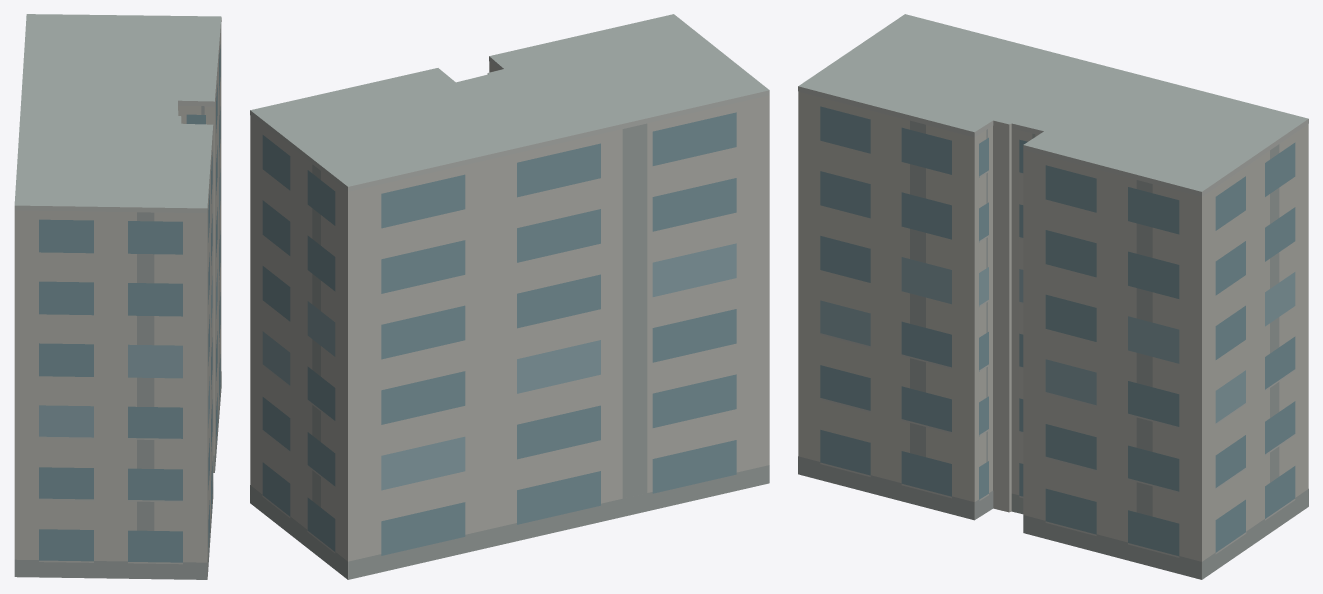
Rendered from survey-upis-32515954.glb.
3 renders of one model, left to right at view 1: azimuth 30°, elevation 25°; view 2: azimuth 150°, elevation 25°; view 3: azimuth 270°, elevation 25°, orthographic. The views are drawn at different scales.
Parts seen in each view (by area): view 1: survey-upis-32515954.tmp; view 2: survey-upis-32515954.tmp; view 3: survey-upis-32515954.tmp.
Boxes of the visible parts, bbox=[...] form: survey-upis-32515954.tmp: bbox=[14, 14, 221, 579]; survey-upis-32515954.tmp: bbox=[250, 14, 769, 579]; survey-upis-32515954.tmp: bbox=[798, 14, 1308, 579].
Bounding box in the file's own units: 18.2 × 18.5 × 22.07.
